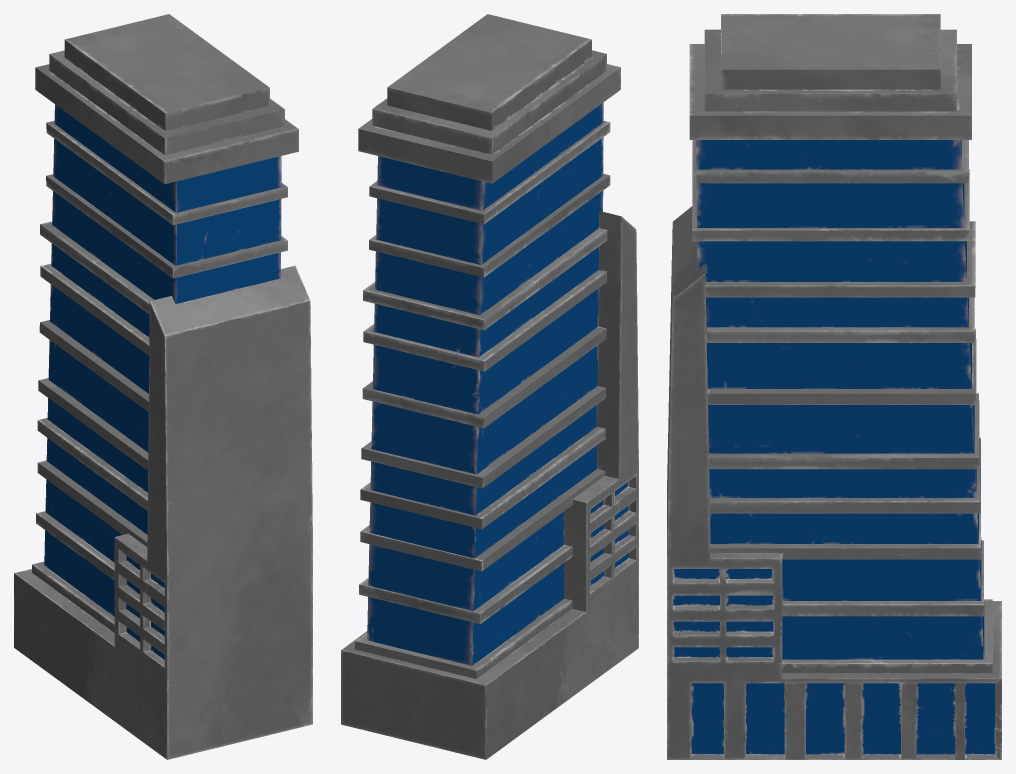
File: Building.fbx
The picture shows the model from 3 angles, left to right: view 1: azimuth 30°, elevation 25°; view 2: azimuth 150°, elevation 25°; view 3: azimuth 270°, elevation 25°; orthographic projection. The views are drawn at different scales.
Parts seen in each view (by area): view 1: Cube.017; view 2: Cube.017; view 3: Cube.017.
Boxes of the visible parts, x1,y1,x2,y2 form: Cube.017: [14, 14, 312, 759]; Cube.017: [341, 14, 638, 759]; Cube.017: [667, 14, 1001, 759].
Size of the model in its own units: 407 by 1665 by 743.
Materials: 1 (1 with a texture image).
